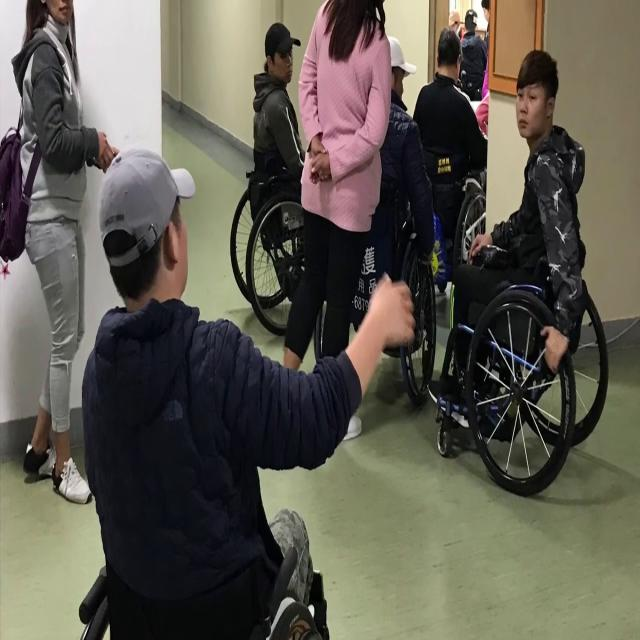wheelchairs: (427, 220, 622, 494), (316, 161, 442, 423), (228, 126, 350, 341)
